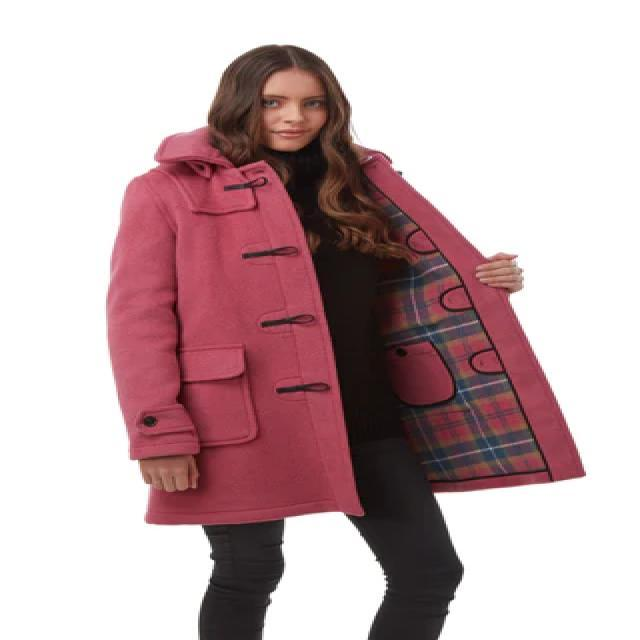coat: (103, 124, 589, 529)
sweater: (238, 146, 408, 425)
trousers: (195, 433, 466, 640)
